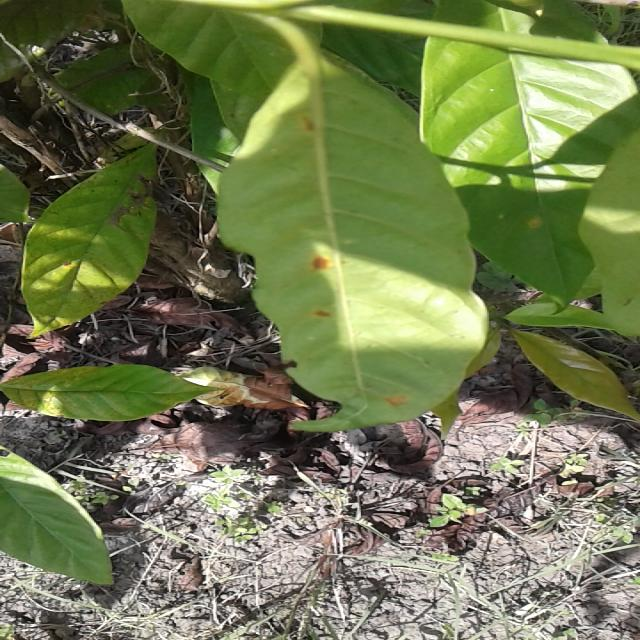Enfermedad-Roya: (197, 6, 500, 436)
